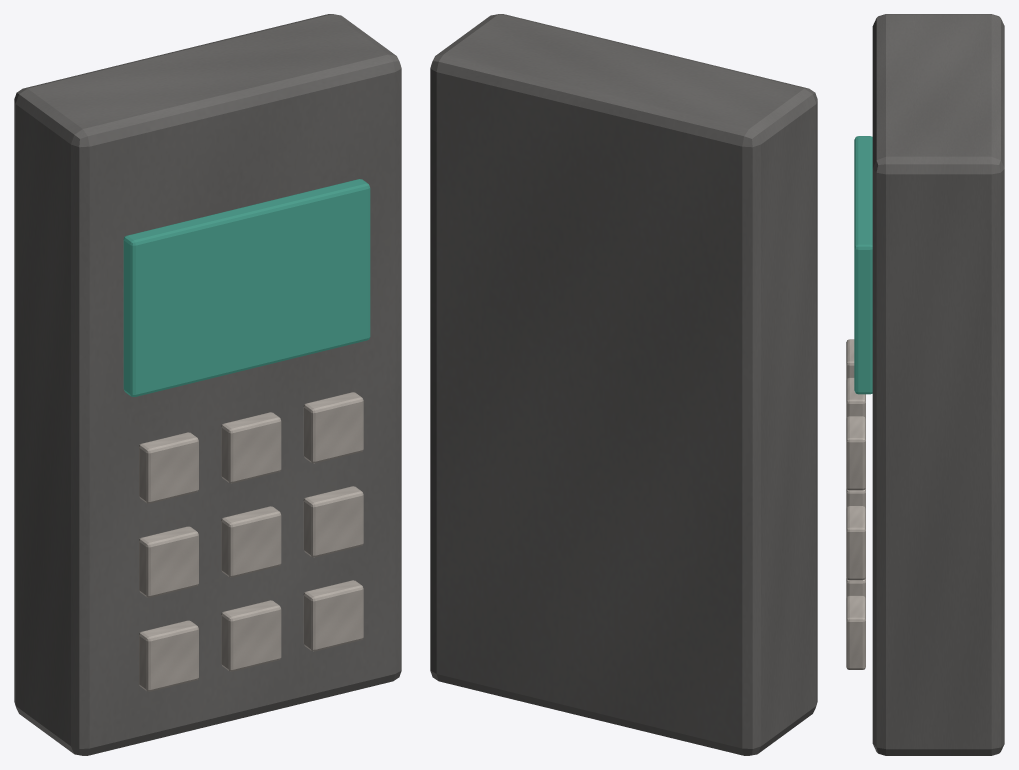
The model's file is access_panel.glb.
3 renders of one model, left to right at view 1: azimuth 30°, elevation 25°; view 2: azimuth 150°, elevation 25°; view 3: azimuth 270°, elevation 25°, orthographic. The views are drawn at different scales.
Parts seen in each view (by area): view 1: panel_body.001, display.018, MESH_MAT_Painted_Ivory.167; view 2: panel_body.001; view 3: panel_body.001, MESH_MAT_Painted_Ivory.167, display.018.
Boxes of the visible parts, <box> form: panel_body.001: <box>14,14,401,755</box>; display.018: <box>123,179,370,396</box>; MESH_MAT_Painted_Ivory.167: <box>139,392,363,691</box>; panel_body.001: <box>430,14,817,755</box>; panel_body.001: <box>872,14,1004,755</box>; MESH_MAT_Painted_Ivory.167: <box>846,339,865,669</box>; display.018: <box>854,136,872,394</box>.
Bounding box in the file's own units: 0.22 × 0.4 × 0.096.
Materials: 3 (2 with a texture image).
